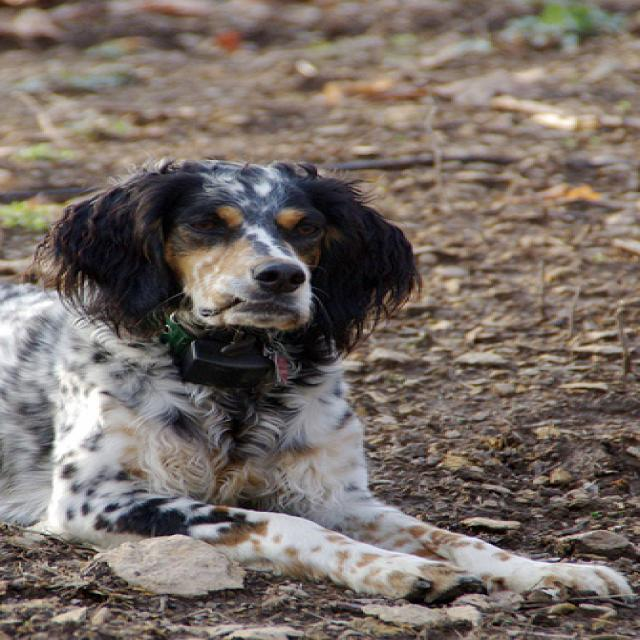dog-english_setter: (2, 152, 630, 602)
